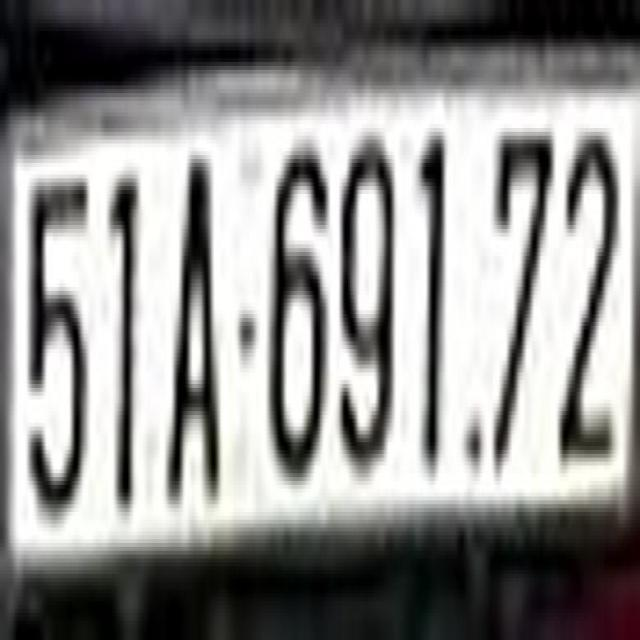1: (413, 128, 448, 470), (109, 151, 136, 524)
2: (560, 124, 620, 473)
5: (24, 155, 86, 508)
6: (266, 128, 330, 508)
7: (490, 112, 558, 474)
9: (334, 143, 390, 481)
A: (164, 140, 222, 512)
